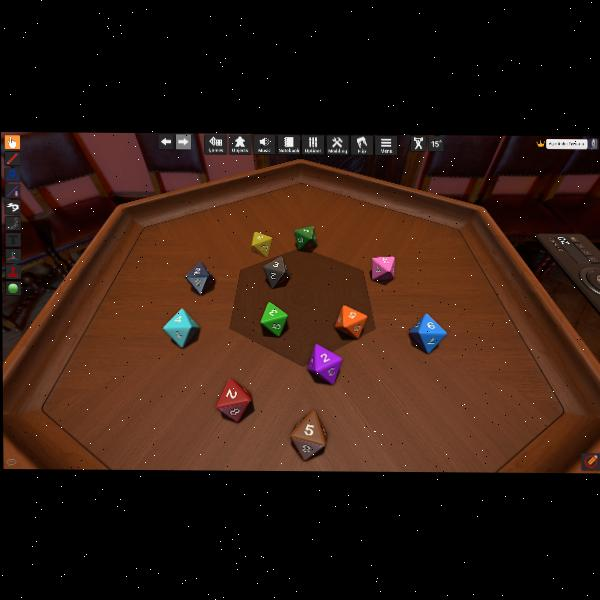d8: (290, 409, 326, 460), (162, 308, 201, 348), (409, 312, 446, 352), (216, 378, 250, 421), (307, 342, 339, 382), (185, 261, 215, 296), (334, 303, 364, 338), (261, 302, 289, 336), (263, 256, 291, 288), (371, 255, 395, 280), (295, 226, 317, 251), (251, 231, 272, 257)
